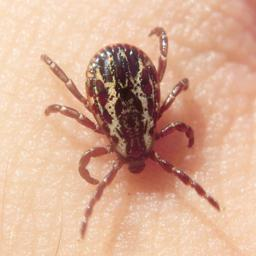Dermacentor variabilis: (36, 41, 194, 241)
